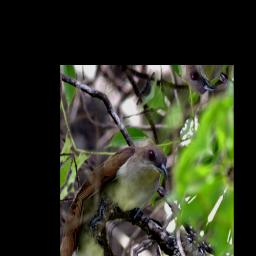Cuckoo: (76, 110, 177, 247)
